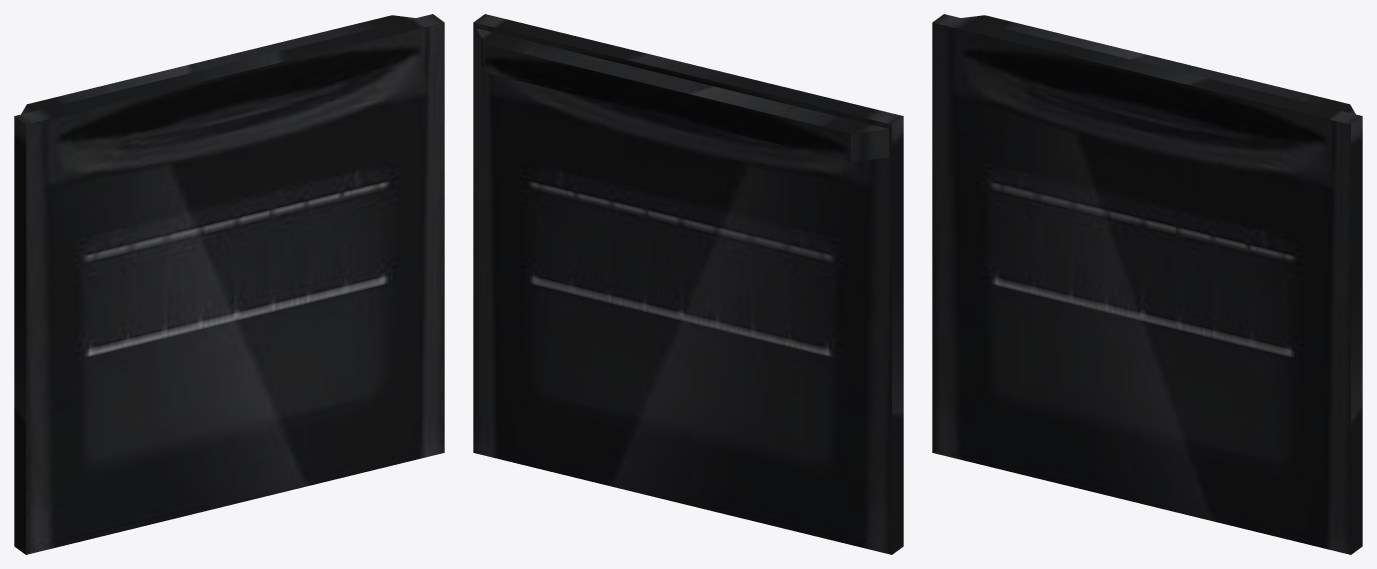
Rendered from Stove_door_05.glb.
3 views of the same model, side by side, from view 1: azimuth 30°, elevation 25°; view 2: azimuth 150°, elevation 25°; view 3: azimuth 330°, elevation 25° (orthographic).
Visible parts, largest first — view 1: Stove_door_05; view 2: Stove_door_05; view 3: Stove_door_05.
Part boxes in pixels (left/top/right/bottom): Stove_door_05: left=14, top=14, right=444, bottom=554; Stove_door_05: left=473, top=14, right=903, bottom=554; Stove_door_05: left=932, top=14, right=1362, bottom=554.
Bounding box in the file's own units: 0.6091 × 0.5982 × 0.0651.
1 material, 1 textured.
